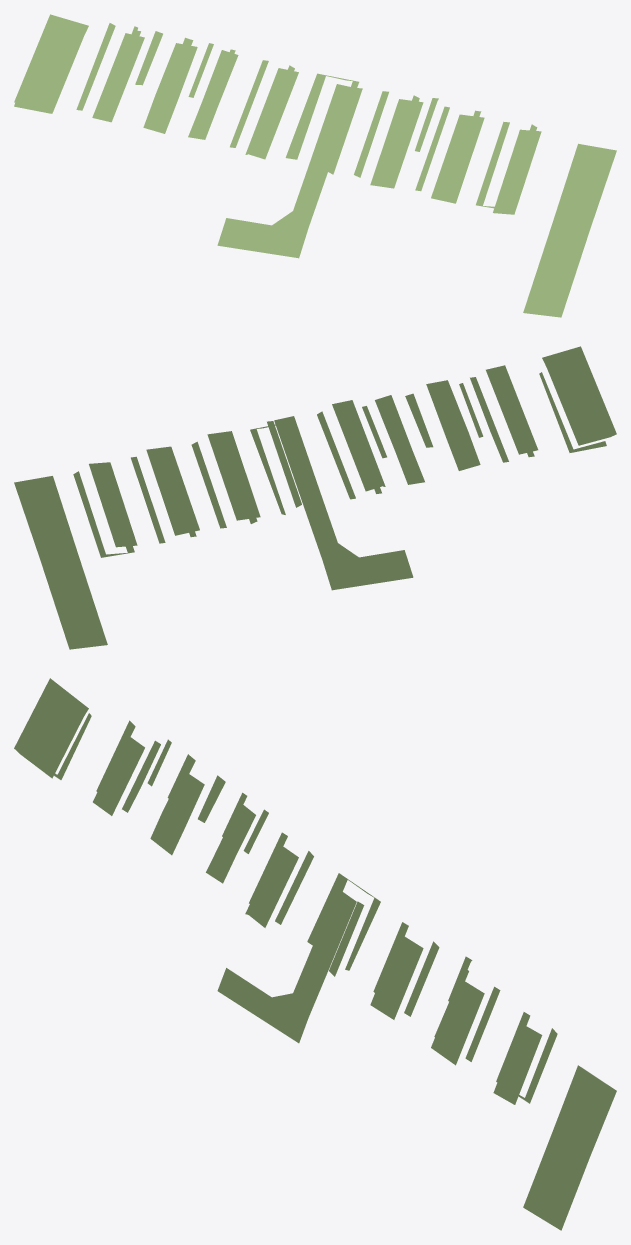
File: Roof_Hini_2.0_Slope_2.5.obj
The picture shows the model from 3 angles, top to bottom: view 1: azimuth 30°, elevation 25°; view 2: azimuth 150°, elevation 25°; view 3: azimuth 330°, elevation 25°; orthographic projection.
Visible parts, largest first — view 1: 5, 1, 10, 4, 3, 8, 2, 7, 9, 6; view 2: 5, 1, 10, 4, 3, 9, 7, 8, 2, 6; view 3: 5, 1, 10, 4, 3, 9, 8, 7, 2, 6.
Boxes of the visible parts, left/top/right/bottom form: 5: left=217, top=73, right=362, bottom=258; 1: left=523, top=143, right=616, bottom=317; 10: left=14, top=14, right=88, bottom=113; 4: left=415, top=98, right=484, bottom=203; 3: left=354, top=91, right=423, bottom=188; 8: left=135, top=31, right=197, bottom=133; 2: left=476, top=121, right=541, bottom=214; 7: left=230, top=60, right=298, bottom=159; 9: left=76, top=23, right=144, bottom=122; 6: left=188, top=43, right=238, bottom=139; 5: left=250, top=416, right=413, bottom=590; 1: left=14, top=476, right=107, bottom=649; 10: left=539, top=346, right=616, bottom=452; 4: left=131, top=446, right=199, bottom=543; 3: left=191, top=431, right=260, bottom=528; 9: left=459, top=365, right=538, bottom=462; 7: left=317, top=400, right=385, bottom=499; 8: left=405, top=380, right=480, bottom=470; 2: left=73, top=462, right=137, bottom=557; 6: left=362, top=395, right=424, bottom=484; 5: left=217, top=873, right=380, bottom=1043; 1: left=523, top=1065, right=616, bottom=1230; 10: left=14, top=678, right=91, bottom=779; 4: left=431, top=956, right=500, bottom=1065; 3: left=370, top=922, right=439, bottom=1019; 9: left=93, top=720, right=171, bottom=815; 8: left=150, top=754, right=225, bottom=855; 7: left=245, top=832, right=313, bottom=927; 2: left=493, top=1012, right=557, bottom=1104; 6: left=206, top=792, right=268, bottom=883.
Bounding box in the file's own units: 136 × 92 × 6.53.
